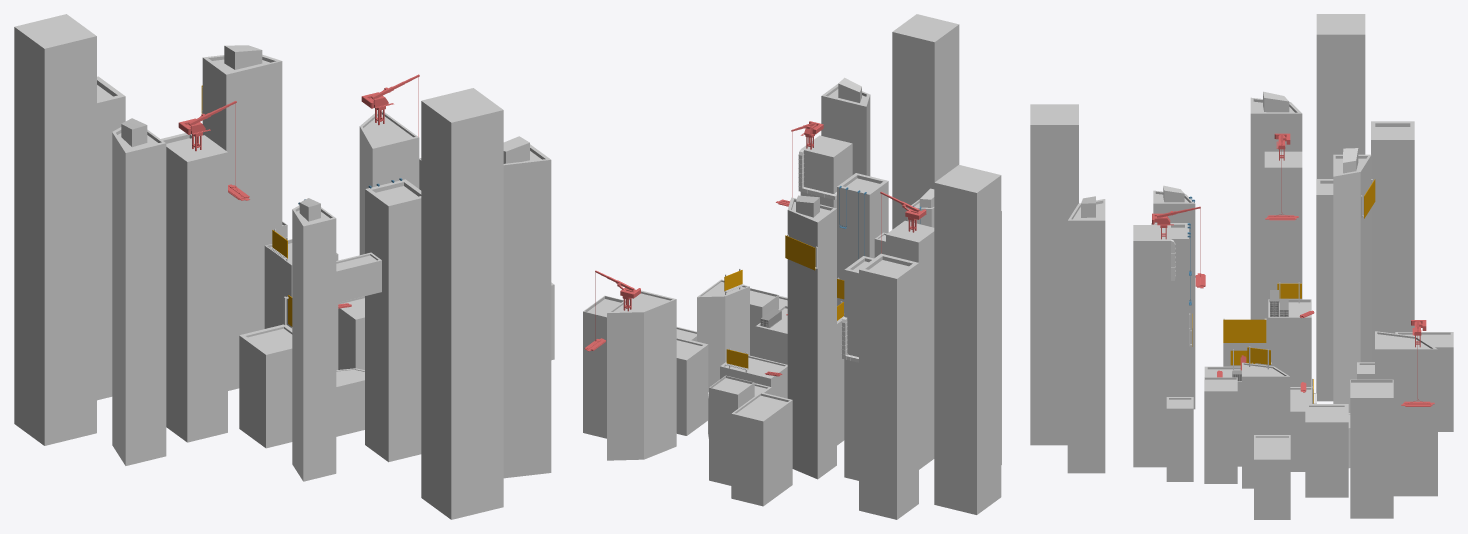
The model's file is Environment_City_Assets.fbx.
The picture shows the model from 3 angles, left to right: view 1: azimuth 30°, elevation 25°; view 2: azimuth 150°, elevation 25°; view 3: azimuth 270°, elevation 25°; orthographic projection. The views are drawn at different scales.
Visible parts, largest first — view 1: polySurface5, polySurface15, polySurface3, polySurface8, polySurface12, polySurface1, polySurface13, polySurface11, polySurface10, polySurface4, polySurface23, polySurface9 (+4 smaller); view 2: polySurface5, polySurface4, polySurface1, polySurface15, polySurface23, polySurface22, polySurface8, polySurface12, polySurface16, polySurface13, polySurface27, polySurface2 (+12 smaller); view 3: polySurface15, polySurface13, polySurface4, polySurface18, polySurface1, polySurface23, polySurface5, polySurface27, polySurface8, polySurface3, polySurface26, polySurface2 (+14 smaller).
Boxes of the visible parts, x1,y1,x2,y2 form: polySurface5: [14, 14, 96, 445]; polySurface15: [421, 88, 503, 519]; polySurface3: [112, 118, 166, 465]; polySurface8: [166, 135, 227, 442]; polySurface12: [336, 179, 421, 462]; polySurface1: [202, 45, 282, 390]; polySurface13: [503, 136, 551, 478]; polySurface11: [292, 198, 336, 481]; polySurface10: [239, 324, 292, 448]; polySurface4: [97, 76, 125, 400]; polySurface23: [359, 110, 419, 254]; polySurface9: [264, 239, 338, 370]; polySurface5: [934, 165, 1001, 514]; polySurface4: [859, 253, 918, 519]; polySurface1: [787, 195, 836, 479]; polySurface15: [892, 14, 959, 229]; polySurface23: [607, 290, 676, 460]; polySurface22: [731, 392, 792, 506]; polySurface8: [886, 220, 934, 469]; polySurface12: [837, 173, 888, 313]; polySurface16: [697, 279, 749, 392]; polySurface13: [821, 77, 870, 176]; polySurface27: [583, 295, 623, 438]; polySurface2: [844, 256, 873, 480]; polySurface15: [1030, 104, 1078, 445]; polySurface13: [1067, 196, 1105, 473]; polySurface4: [1371, 121, 1414, 362]; polySurface18: [1133, 225, 1170, 467]; polySurface1: [1333, 148, 1371, 412]; polySurface23: [1375, 331, 1437, 496]; polySurface5: [1316, 14, 1365, 178]; polySurface27: [1350, 379, 1393, 518]; polySurface8: [1264, 151, 1302, 365]; polySurface3: [1250, 91, 1302, 319]; polySurface26: [1305, 404, 1348, 497]; polySurface2: [1316, 179, 1333, 401].
Bounding box in the file's own units: 844 × 680 × 814.
